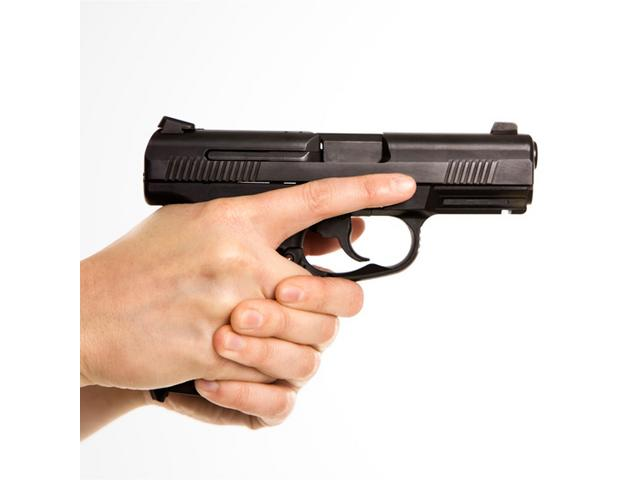pistol: (141, 119, 538, 406)
